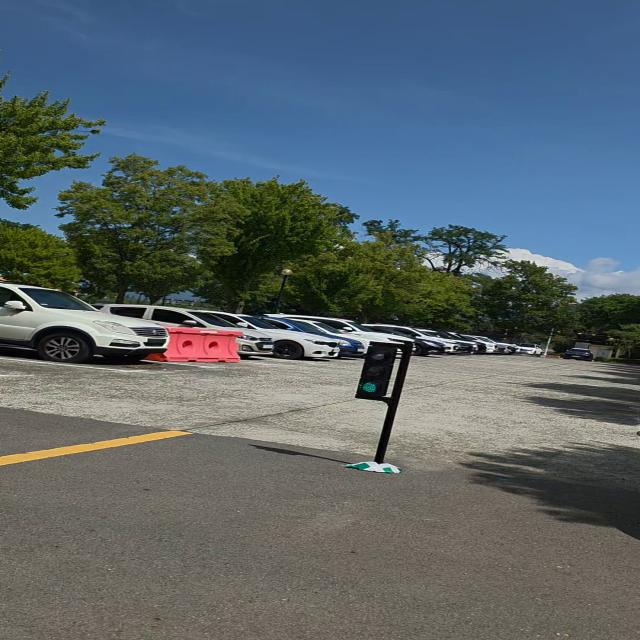green: (357, 342, 399, 398)
